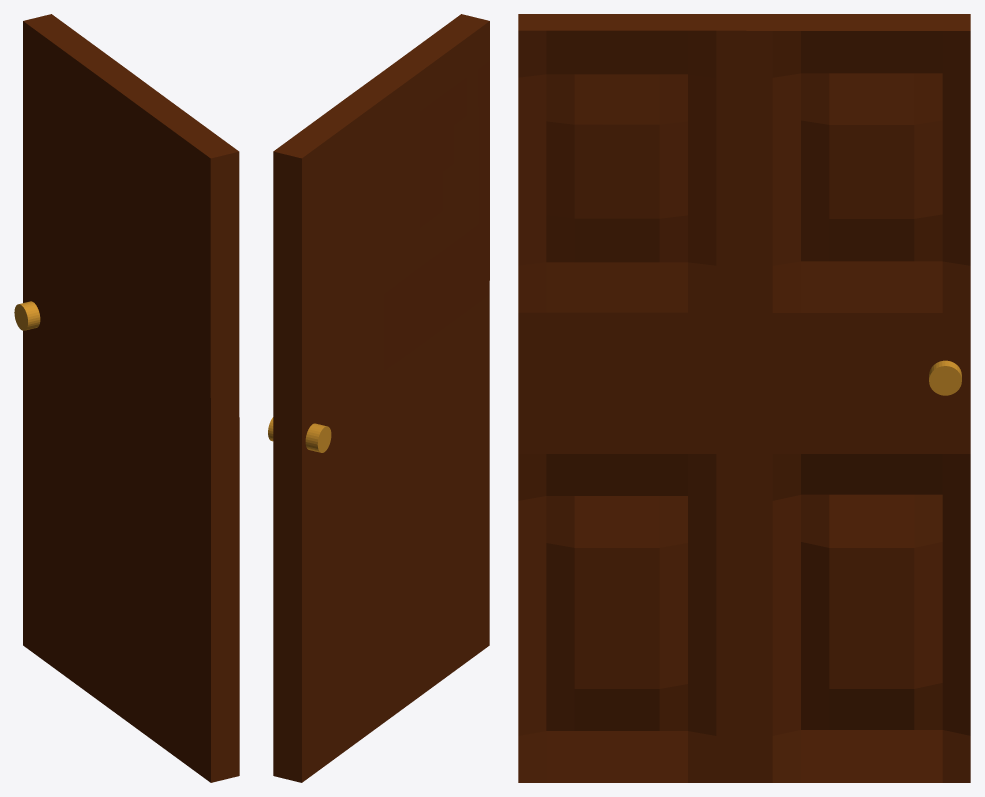
File: door.fbx
3 views of the same model, side by side, from view 1: azimuth 30°, elevation 25°; view 2: azimuth 150°, elevation 25°; view 3: azimuth 270°, elevation 25° (orthographic). The views are drawn at different scales.
Parts seen in each view (by area): view 1: Cube, Cylinder; view 2: Cube, Cylinder; view 3: Cube, Cylinder.
Part boxes in pixels (left/top/right/bottom): Cube: left=23, top=14, right=239, bottom=782; Cylinder: left=14, top=301, right=40, bottom=330; Cube: left=273, top=14, right=489, bottom=782; Cylinder: left=268, top=417, right=331, bottom=452; Cube: left=518, top=14, right=970, bottom=782; Cylinder: left=929, top=360, right=961, bottom=395.
Size of the model in its own units: 66.22 by 792 by 432.
